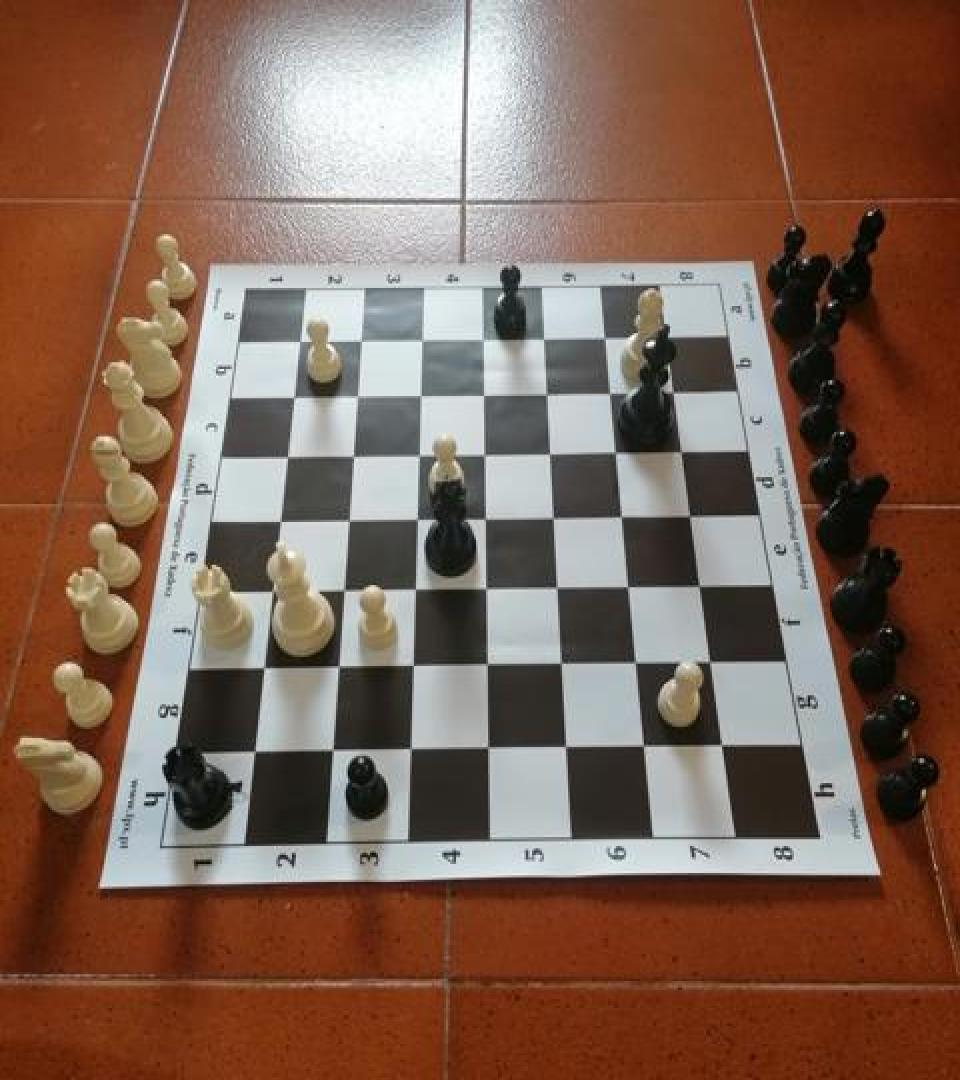xcorner: (469, 324, 497, 356), (408, 324, 436, 356), (346, 325, 374, 357), (285, 326, 313, 358), (598, 378, 626, 410), (534, 378, 562, 410), (470, 379, 498, 411), (406, 380, 434, 412), (342, 381, 370, 413), (278, 381, 306, 413), (670, 436, 698, 468), (338, 441, 366, 473), (272, 442, 300, 474), (471, 504, 499, 536), (402, 505, 430, 537), (333, 505, 361, 537), (264, 506, 292, 538), (688, 571, 716, 603), (616, 571, 644, 603), (328, 576, 356, 608), (256, 577, 284, 609), (623, 648, 651, 680), (548, 649, 576, 681), (473, 650, 501, 682), (398, 651, 426, 683), (322, 652, 350, 684), (709, 730, 737, 762), (631, 731, 659, 763), (552, 732, 580, 764), (474, 733, 502, 765), (654, 321, 682, 352), (592, 322, 620, 353), (531, 323, 559, 354), (662, 377, 690, 408), (603, 438, 631, 469), (537, 438, 565, 469), (471, 439, 499, 470), (404, 440, 432, 471), (678, 501, 706, 532), (609, 502, 637, 533), (540, 503, 568, 534), (544, 573, 572, 604), (472, 574, 500, 605), (400, 575, 428, 606), (698, 647, 726, 678), (247, 654, 275, 685), (395, 735, 423, 766), (316, 736, 344, 767), (238, 737, 266, 768)
